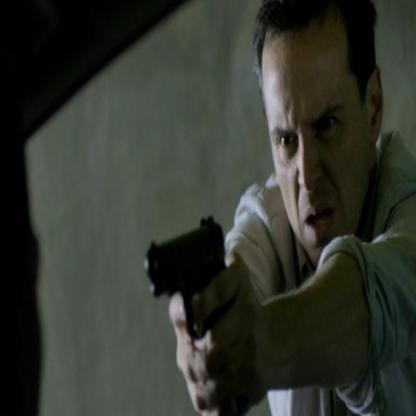Pistol: (141, 207, 236, 358)
